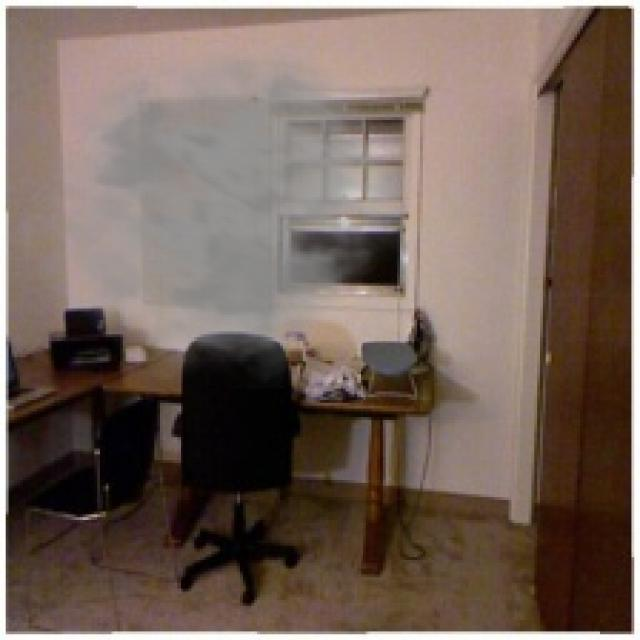Smoke: (11, 40, 408, 389)
